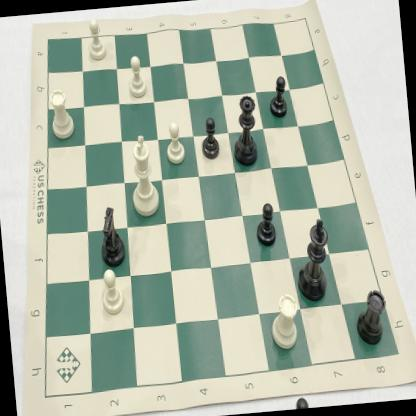king: (292, 214, 335, 306), (124, 132, 164, 219)
pawn: (96, 267, 126, 317), (251, 200, 279, 252), (161, 118, 187, 167), (124, 53, 150, 102), (83, 17, 108, 64), (266, 74, 290, 121), (198, 115, 222, 162)
queen: (227, 91, 264, 170)
rook: (352, 286, 390, 348), (266, 292, 302, 356), (95, 204, 128, 268), (44, 86, 78, 144)
